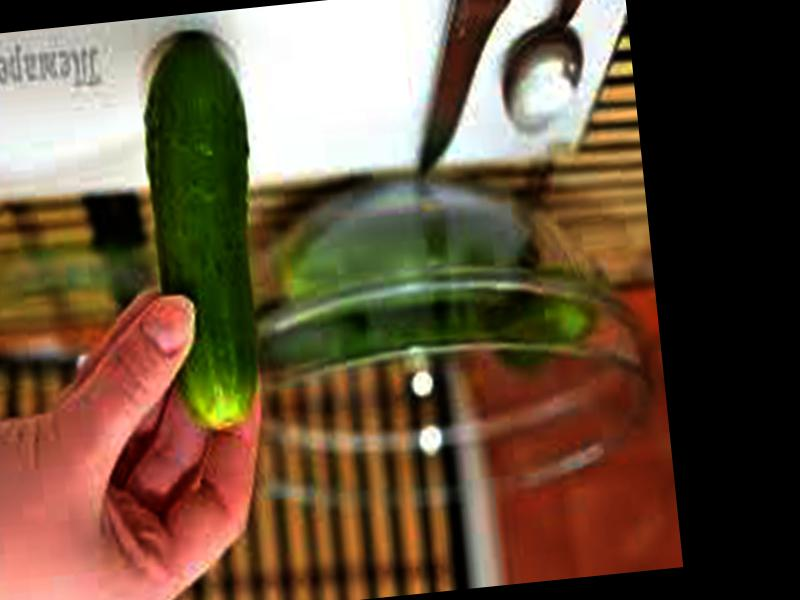Cucumber: (135, 32, 276, 434)
